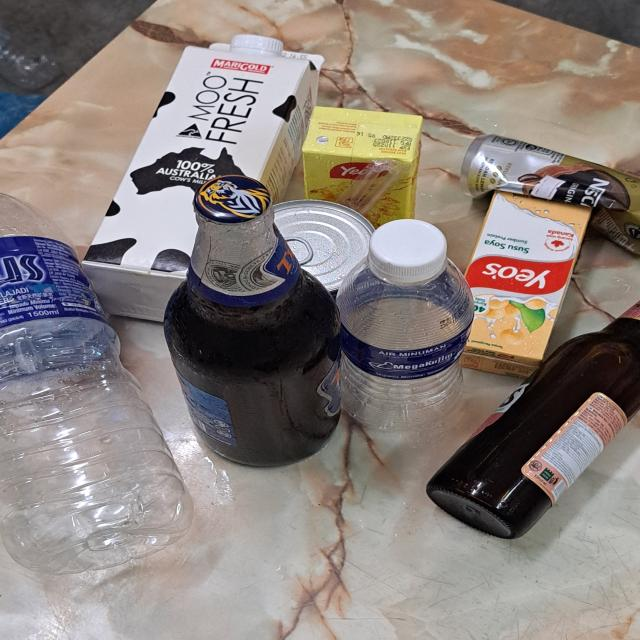can: (460, 133, 640, 258), (268, 199, 378, 297)
drink carton: (80, 41, 325, 324), (457, 190, 590, 378), (301, 106, 423, 230)
glass bottle: (163, 174, 344, 470), (425, 294, 640, 540)
plastic bottle: (0, 190, 198, 578), (334, 255, 476, 434)
plastic bottle cap: (370, 219, 448, 280), (230, 34, 283, 56)
pop tab: (283, 237, 314, 266)
